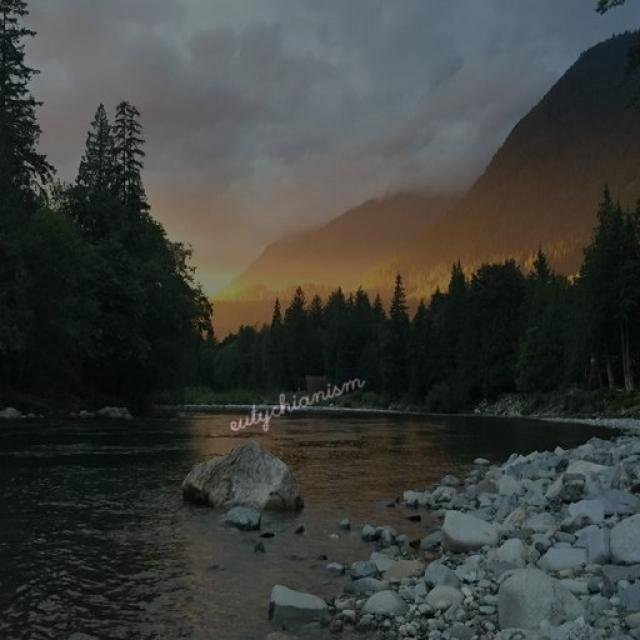watermark: (225, 363, 365, 435)
